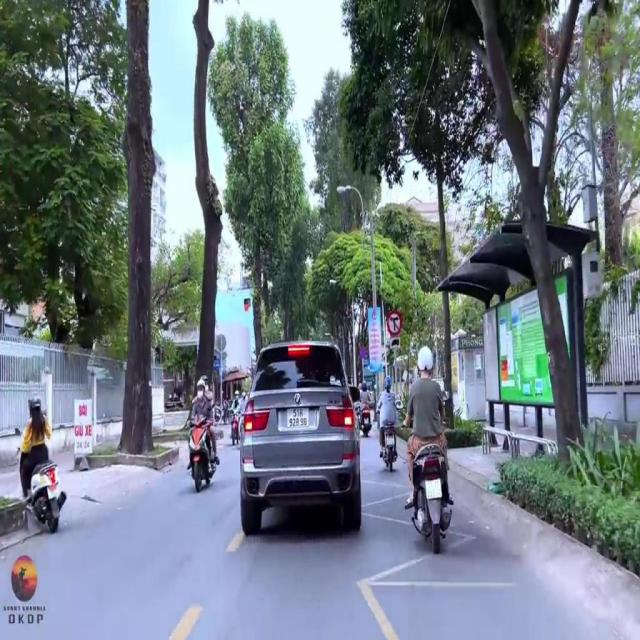cam_do_xe: (360, 346, 366, 358)
cam_re_trai_va_phai: (388, 311, 402, 336)
khac: (390, 338, 401, 349)
